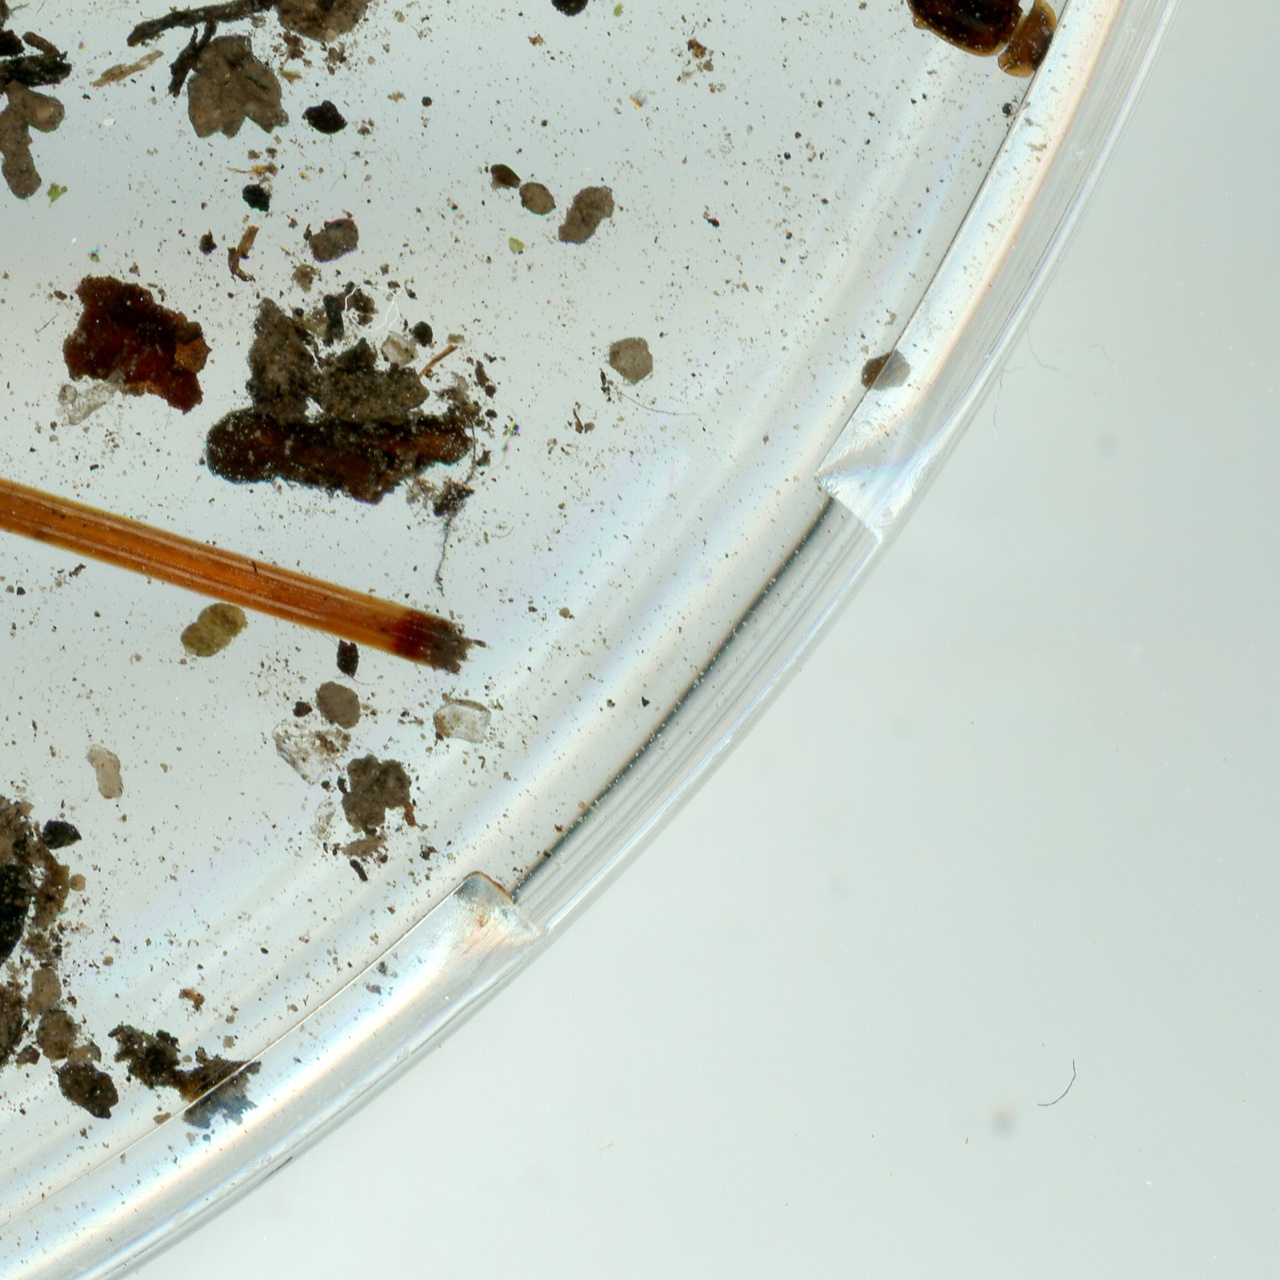arthropod: (869, 0, 1085, 94), (906, 0, 1058, 74), (862, 346, 911, 392)
